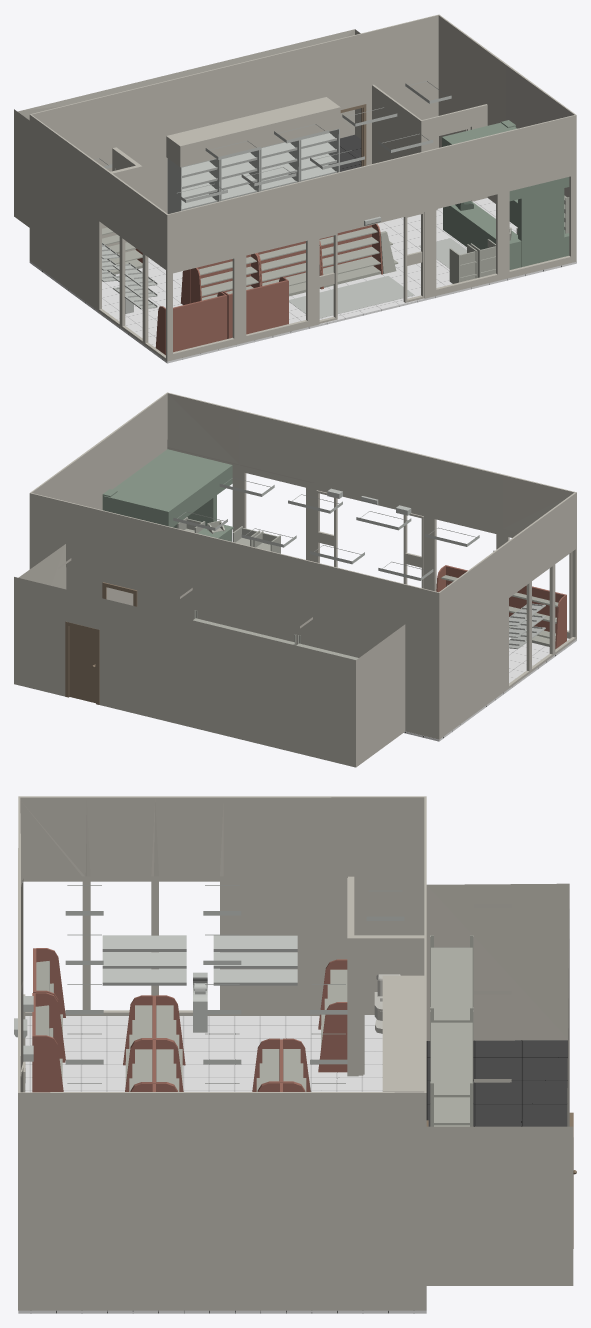
File: sakura-interior.glb
3 views of the same model, one above another, from view 1: azimuth 30°, elevation 25°; view 2: azimuth 150°, elevation 25°; view 3: azimuth 270°, elevation 25° (orthographic). The views are drawn at different scales.
Visible parts, largest first — view 1: sakura-building, sakura-fridge, sakura-shelf-ends, sakura-shelf, building.floor, sakura-counter, building.backroom.floor; view 2: sakura-building, sakura-counter, sakura-fridge, sakura-door, sakura-shelf, sakura-shelf-ends, building.floor; view 3: sakura-building, building.floor, sakura-shelf, sakura-fridge, sakura-shelf-ends, building.backroom.floor.
Part boxes in pixels (bbox=[...]): sakura-building: bbox=[14, 14, 576, 361]; sakura-fridge: bbox=[94, 81, 466, 318]; sakura-shelf-ends: bbox=[135, 224, 382, 355]; sakura-shelf: bbox=[102, 195, 569, 300]; building.floor: bbox=[29, 198, 576, 363]; sakura-counter: bbox=[442, 120, 569, 269]; building.backroom.floor: bbox=[340, 134, 361, 171]; sakura-building: bbox=[14, 392, 576, 767]; sakura-counter: bbox=[102, 449, 233, 541]; sakura-fridge: bbox=[173, 477, 545, 649]; sakura-door: bbox=[65, 582, 137, 704]; sakura-shelf: bbox=[177, 517, 558, 659]; sakura-shelf-ends: bbox=[436, 565, 566, 649]; building.floor: bbox=[404, 637, 576, 741]; sakura-building: bbox=[18, 796, 573, 1310]; building.floor: bbox=[18, 1015, 426, 1313]; sakura-shelf: bbox=[35, 935, 473, 1126]; sakura-fridge: bbox=[14, 885, 404, 1083]; sakura-shelf-ends: bbox=[32, 948, 347, 1092]; building.backroom.floor: bbox=[426, 1040, 567, 1126].
Bounding box in the file's own units: 13.73 × 4.75 × 11.01.
Materials: 2 (2 with a texture image).
